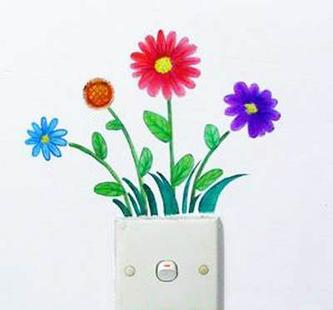switch: (155, 259, 179, 283)
